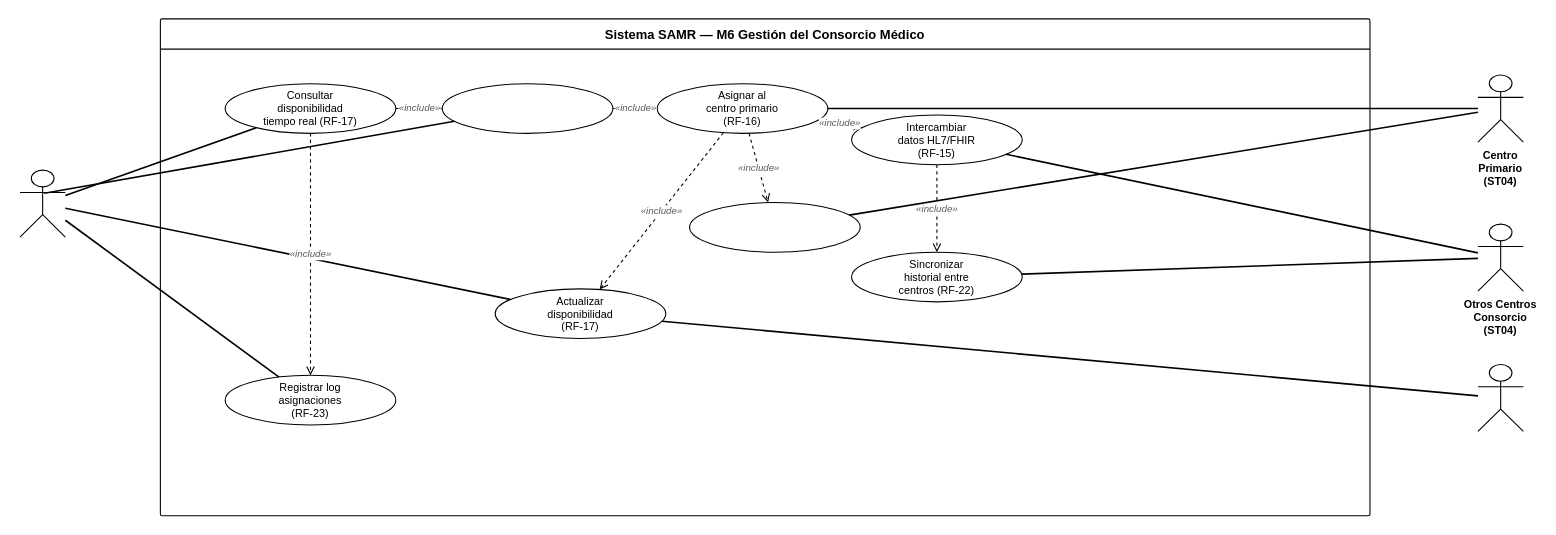
Image size: 1556x535. Some labels were removed from this diagram. The box of each missing label's shape, as (x1, y1, x2, y2) in pixels:
Confirmar asignación (RF-16): (688, 201, 860, 252)
Ejecutar matching (RF-07): (441, 83, 613, 133)
Paciente (ST01) (receptor): (1477, 363, 1523, 431)
Personal Administ.: (19, 169, 65, 237)
